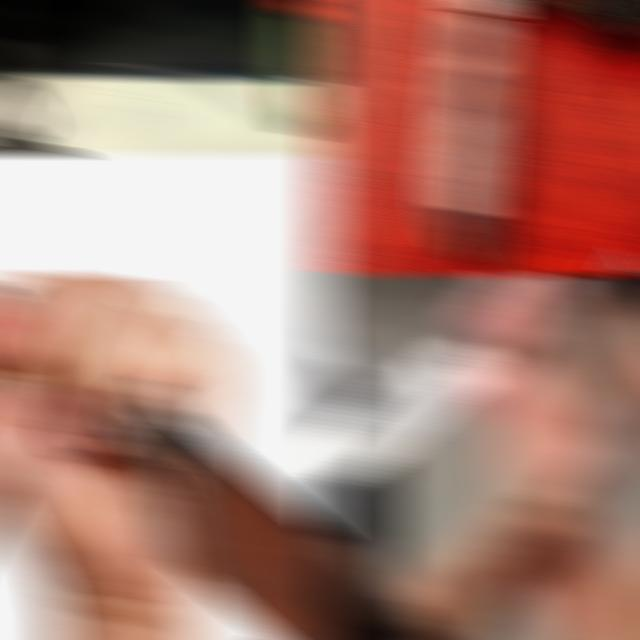Knife: (112, 382, 338, 640), (314, 338, 504, 488), (270, 0, 326, 140)
Knife_Handle: (0, 274, 338, 640), (314, 274, 585, 500)
